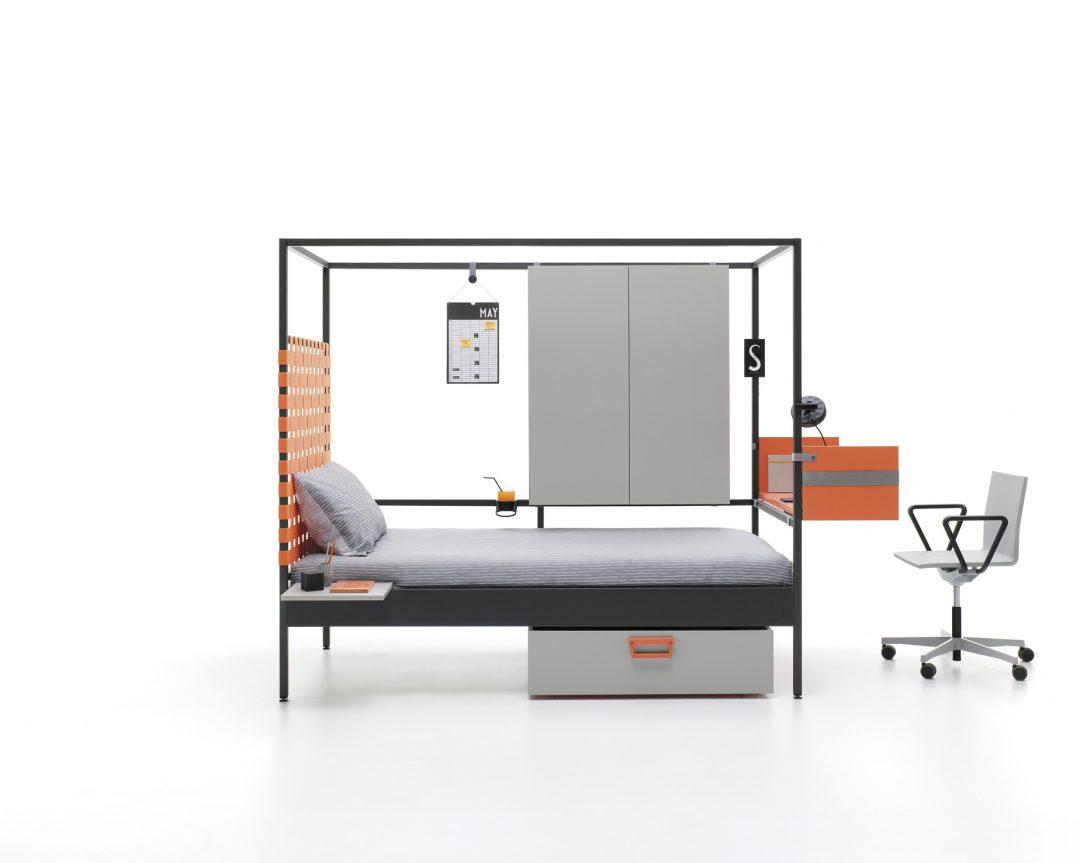bed: (314, 470, 814, 598)
